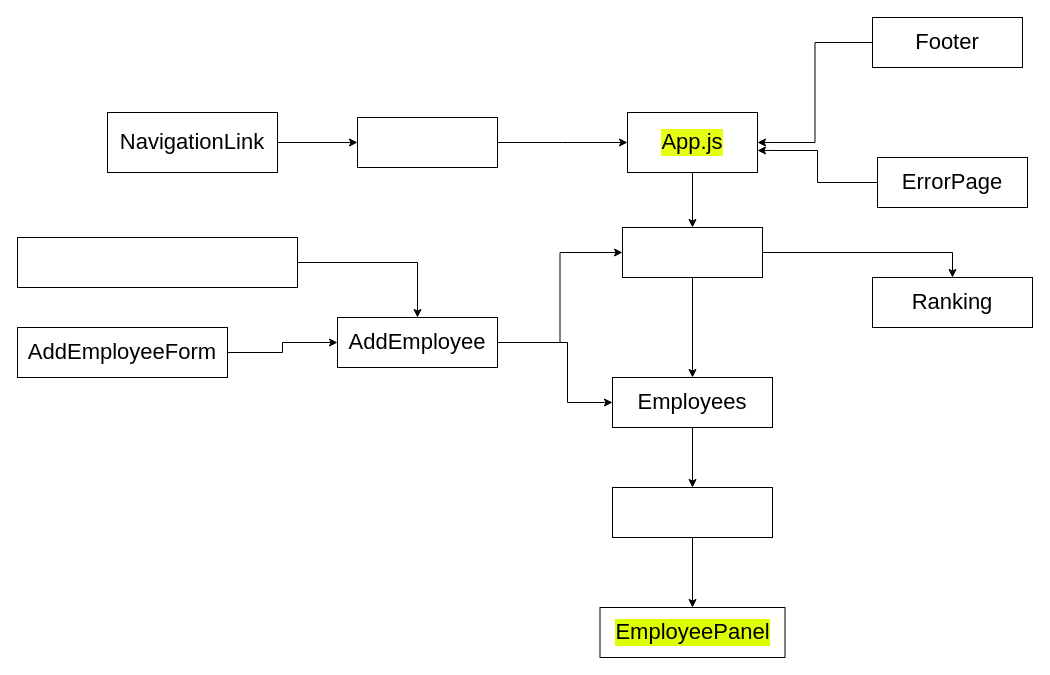
Image size: 1050x675. Some labels were removed from this diagram. Each missing label, with the centre of its shape:
"Content" goes at [692,252].
"Employee" goes at [692,512].
"ErrorMessageAddEmployee" goes at [157,262].
"Navigation" goes at [427,142].
